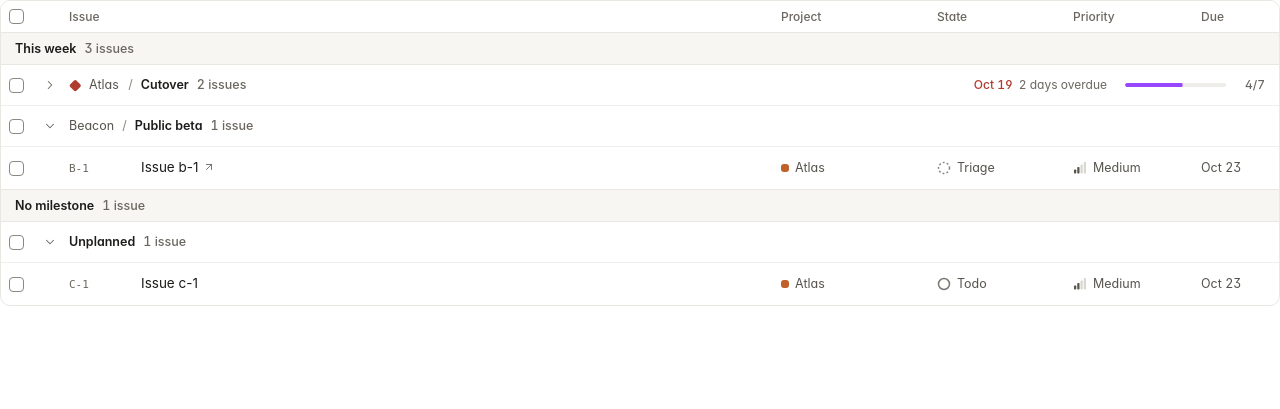
Test: TaskGroupTable selection › a folded group’s checkbox unfolds it and selects its rows
Expected: the link "Issue a-1" is not shown
Click the checkbox named "Select the 2 shown issues in Cutover" at [16, 85], box [8, 71, 24, 99]
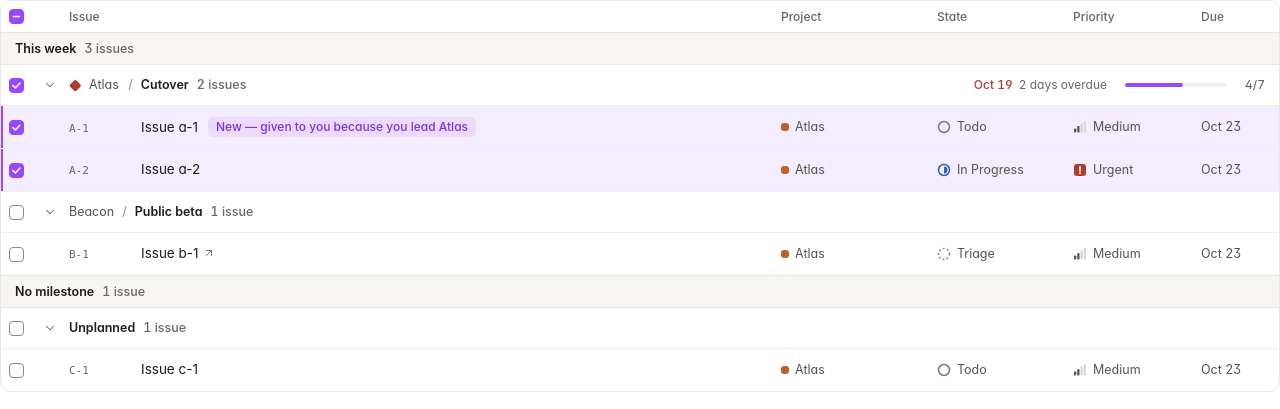
Expected: the link "Issue a-1" is shown, [141, 119, 198, 135]
